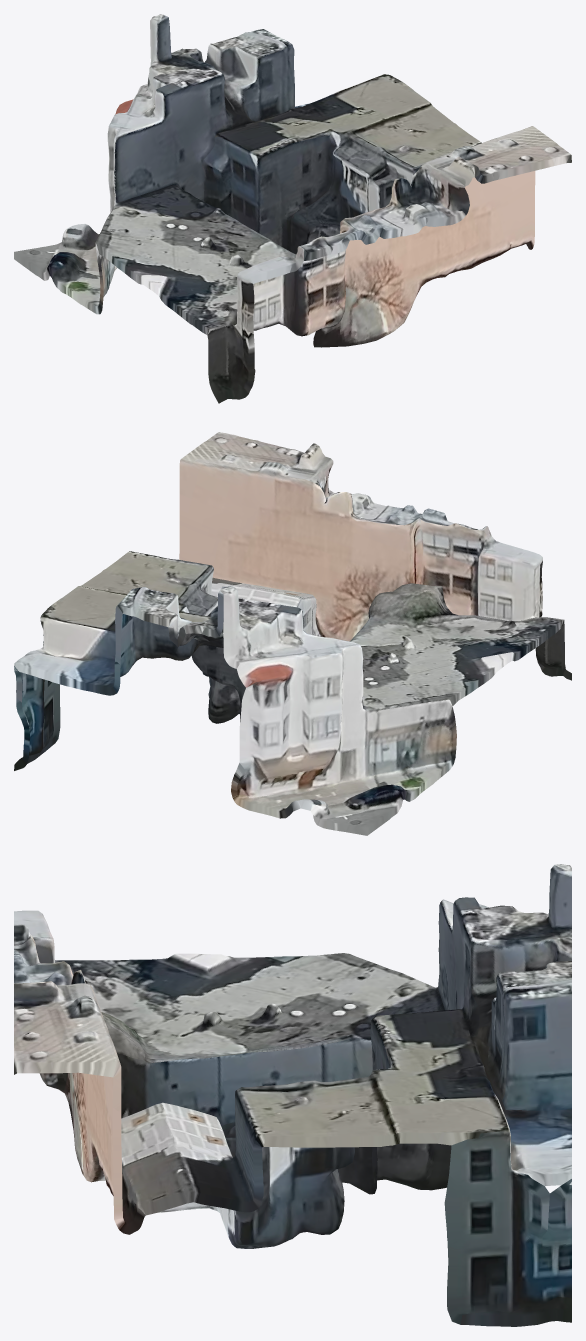
The model's file is z20-167737-405197-h0-yup-uvflip-v3-world.glb.
3 renders of one model, top to bottom at view 1: azimuth 30°, elevation 25°; view 2: azimuth 150°, elevation 25°; view 3: azimuth 270°, elevation 25°, orthographic. The views are drawn at different scales.
Bounding box in the file's own units: 30.2 × 19.28 × 30.32.
1 material, 1 textured.
